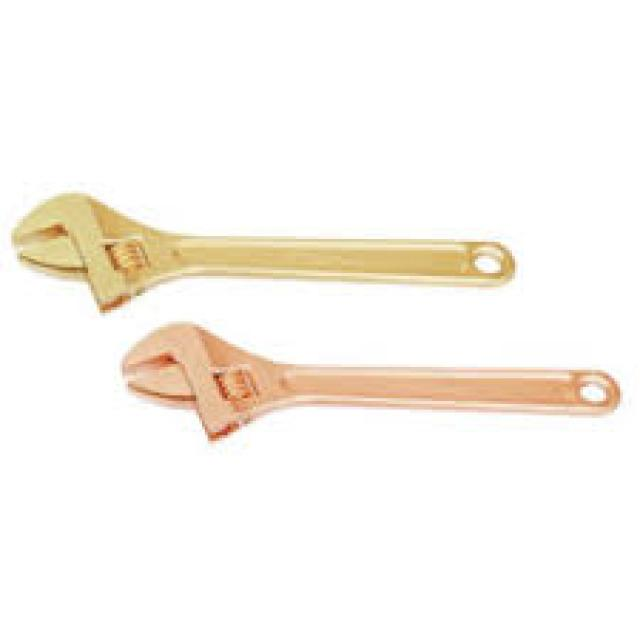wrench: (85, 304, 640, 464), (0, 164, 555, 324)
